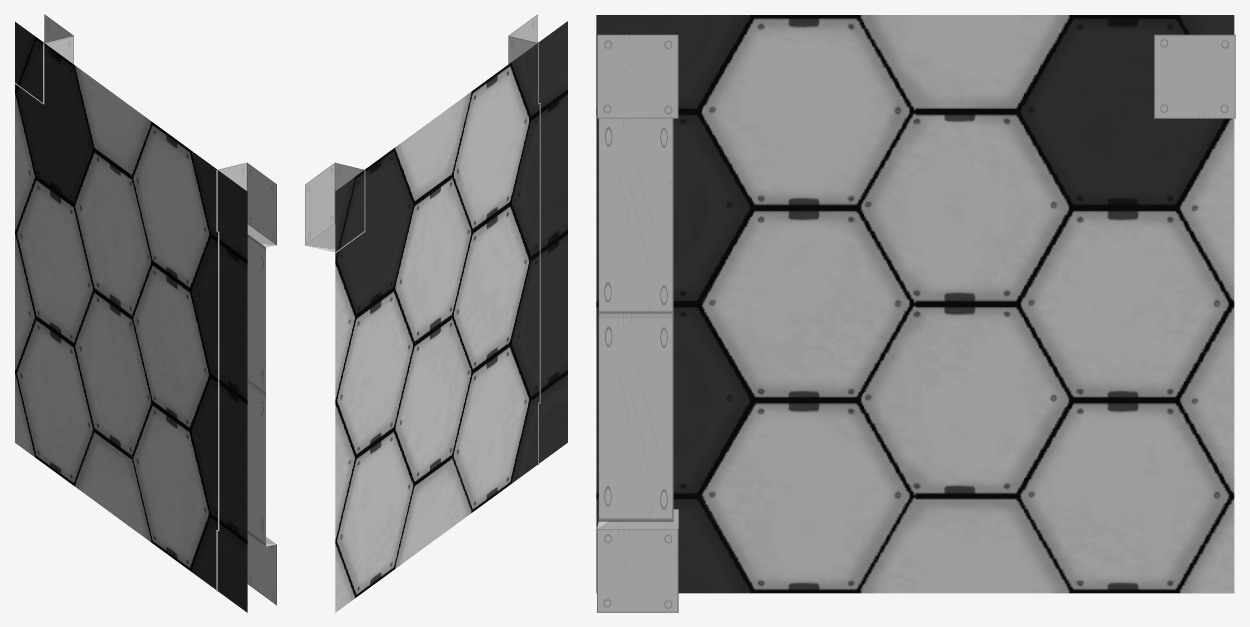
File: Wall_LeftTCorner.fbx
3 views of the same model, side by side, from view 1: azimuth 30°, elevation 25°; view 2: azimuth 150°, elevation 25°; view 3: azimuth 270°, elevation 25° (orthographic). The views are drawn at different scales.
Parts seen in each view (by area): view 1: pPlane122; view 2: pPlane122; view 3: pPlane122.
Part boxes in pixels (x1,y1,x2,y2): pPlane122: (14, 14, 276, 612); pPlane122: (305, 14, 567, 612); pPlane122: (596, 15, 1235, 612).
Size of the model in its own units: 0.1534 by 2 by 2.
